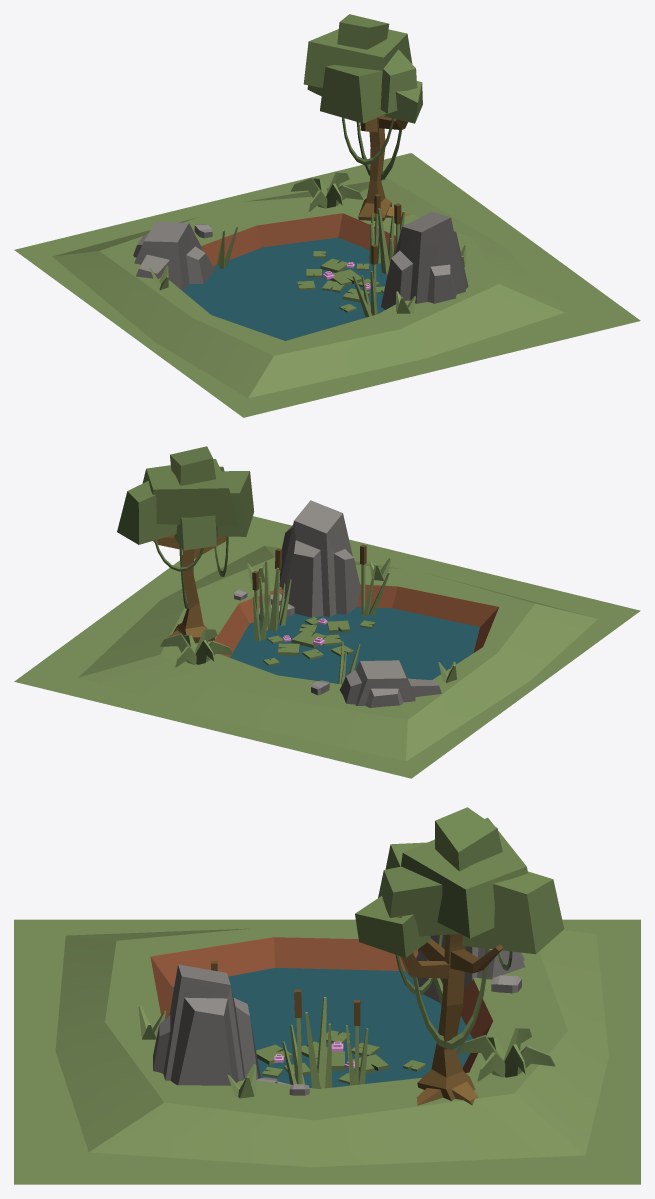
Rendered from SA_Env_Pond_01.gltf.
The picture shows the model from 3 angles, top to bottom: view 1: azimuth 30°, elevation 25°; view 2: azimuth 150°, elevation 25°; view 3: azimuth 270°, elevation 25°; orthographic projection. The views are drawn at different scales.
Parts seen in each view (by area): view 1: SA_Env_Pond_01; view 2: SA_Env_Pond_01; view 3: SA_Env_Pond_01.
Boxes of the visible parts, bbox=[...] form: SA_Env_Pond_01: bbox=[14, 14, 640, 417]; SA_Env_Pond_01: bbox=[14, 446, 640, 778]; SA_Env_Pond_01: bbox=[14, 807, 640, 1184].
Size of the model in its own units: 15 by 8.01 by 15.
1 material, 1 textured.
